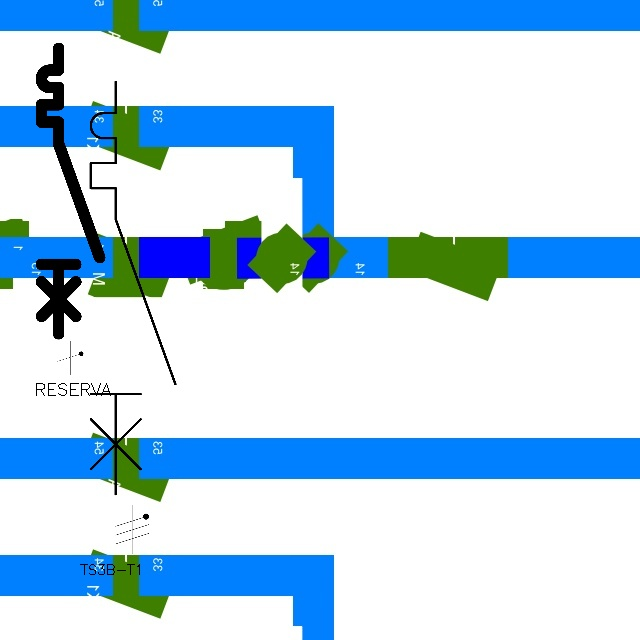interruptor_termomagnetico: (80, 71, 186, 505), (34, 41, 107, 341)
